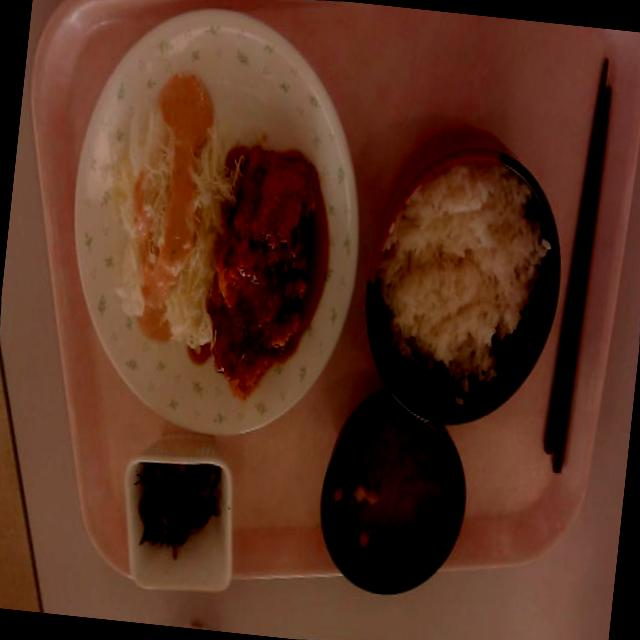Rice: (356, 157, 566, 406)
